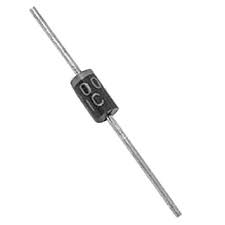diode: (43, 45, 144, 160)
